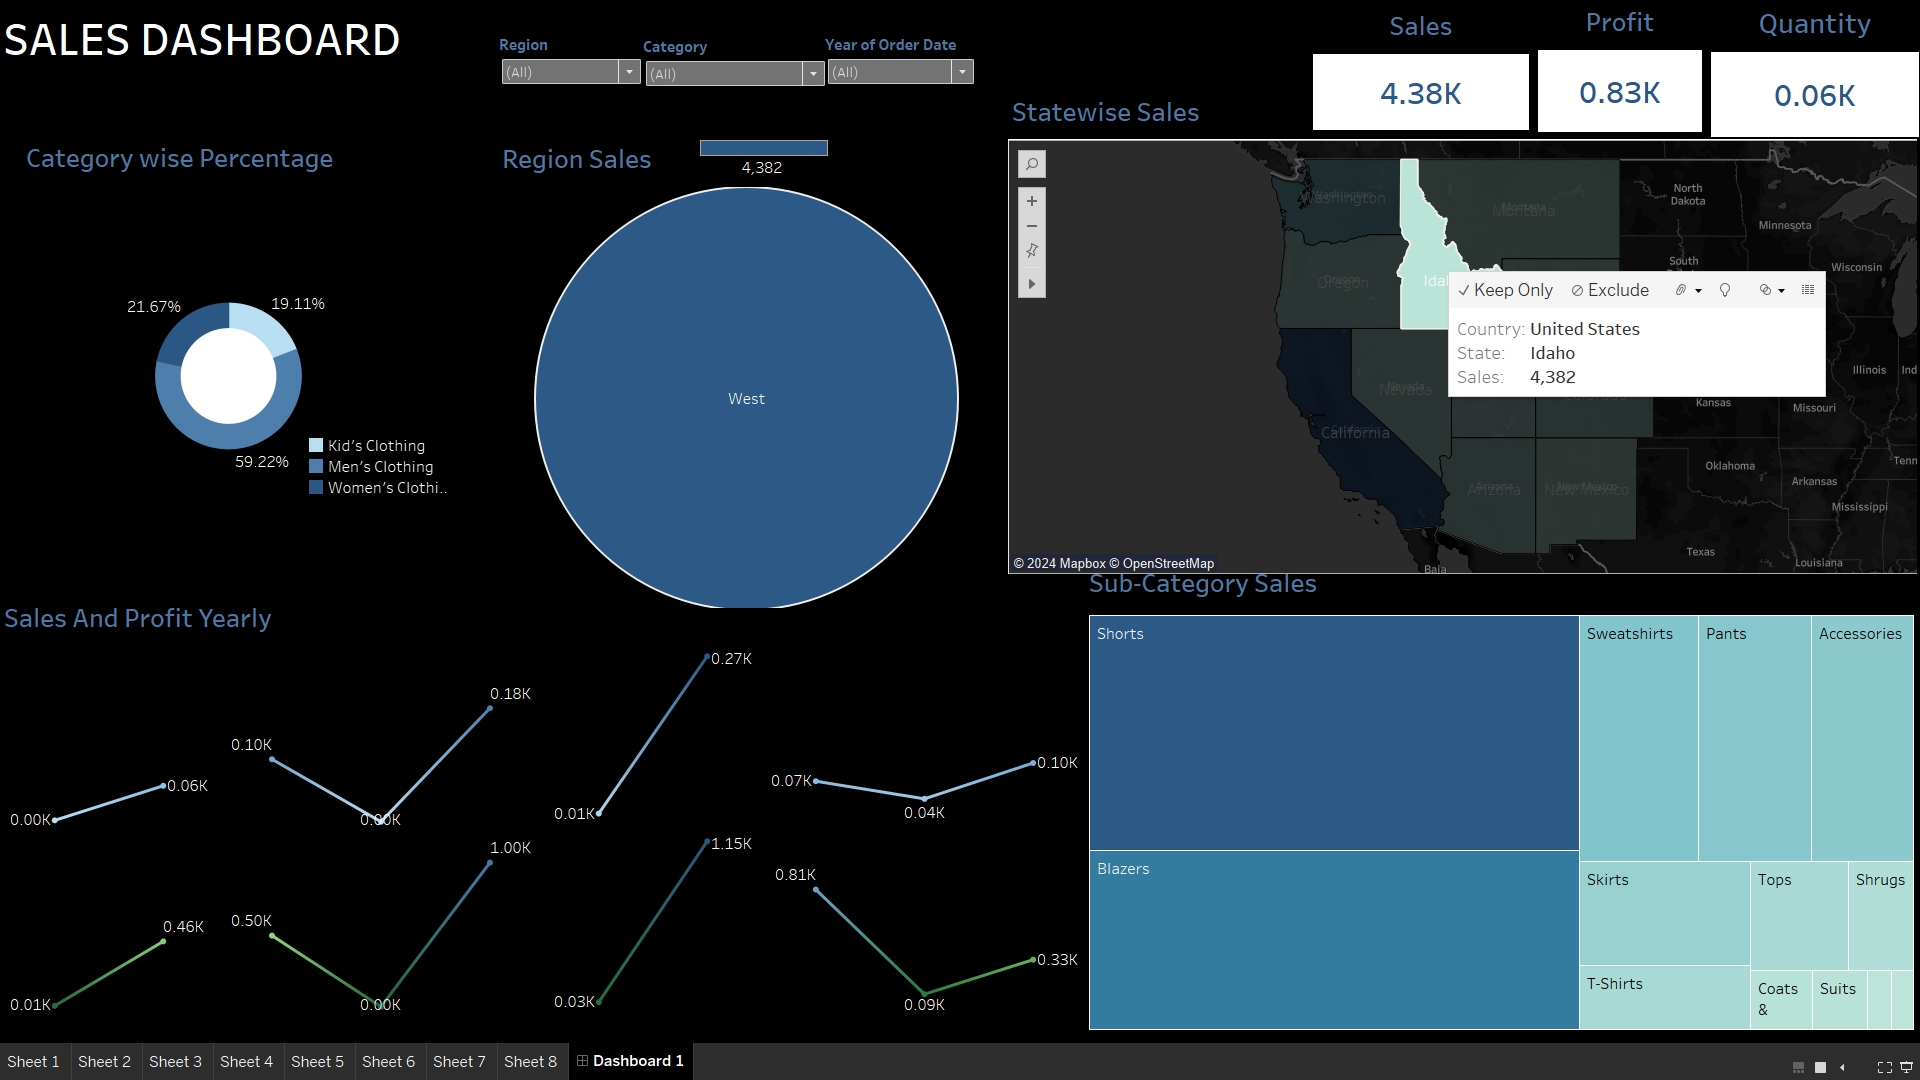

This screenshot's page, from the dashboard's own definition file:
{"tool":"tableau","page":{"name":"Dashboard 1","canvas":[1000,1000],"units":"permille","ordinal":0},"visuals":[{"type":"blank","box":[0,0,1000,1000]},{"type":"worksheet","title":"Sheet 3","mark":"Automatic","box":[801.2,0,85.3,126.1]},{"type":"worksheet","title":"Sheet 4","mark":"Automatic","box":[891.1,0,108.2,131.6]},{"type":"worksheet","title":"Sheet 2","mark":"Automatic","box":[683.9,3.7,112.7,120.7]},{"type":"text","box":[0,5.9,245,59.9]},{"type":"filter","title":"Sheet 3","param":"[federated.02s150b0oq98tg15a1gx214efzrz].[none:Region:nk]","box":[260.1,32.9,75.4,54.1]},{"type":"filter","title":"Sheet 8","param":"[federated.02s150b0oq98tg15a1gx214efzrz].[yr:Order Date:ok]","box":[429.6,32.9,78.9,50.5]},{"type":"filter","title":"Sheet 2","param":"[federated.02s150b0oq98tg15a1gx214efzrz].[none:Category:nk]","box":[334.9,34.1,96.6,51.7]},{"type":"worksheet","title":"Sheet 6","mark":"Automatic","box":[524.8,85.9,473.7,464.4]},{"type":"legend","title":"Sheet 1","param":"[federated.02s150b0oq98tg15a1gx214efzrz].[sum:Sales:qk]","box":[362.7,109.3,70.6,70.5]},{"type":"worksheet","title":"Sheet 7","mark":"Pie","rows":["Calculation_604326818627776520","Calculation_604326818627797002"],"box":[11.5,130.4,214.8,412.5]},{"type":"worksheet","title":"Sheet 1","mark":"Circle","box":[259.5,131.6,258.3,451.2]},{"type":"legend","title":"Sheet 7","param":"[federated.02s150b0oq98tg15a1gx214efzrz].[none:Category:nk]","box":[159.3,396,77.9,99.9]},{"type":"worksheet","title":"Sheet 5","mark":"Automatic","box":[564.9,538.2,433.3,453.6]},{"type":"worksheet","title":"Sheet 8","mark":"Automatic","rows":["Profit","Sales"],"cols":["Order Date","Order Date"],"box":[0,571.1,566.1,403.1]}]}

Visuals, with their boxes on the dashboard's canvas, which has no fixed pixel size, in thousandths of its width and height (x1, y1, x2, y2). These are canvas units, not pixel positions in the 1920x1080 screenshot, which may show the page scaled, cropped or inside an application window:
blank: detection(0, 0, 1000, 1000)
"Sheet 3" worksheet: detection(801, 0, 886, 126)
"Sheet 4" worksheet: detection(891, 0, 999, 132)
"Sheet 2" worksheet: detection(684, 4, 797, 124)
text: detection(0, 6, 245, 66)
"Sheet 3" filter: detection(260, 33, 336, 87)
"Sheet 8" filter: detection(430, 33, 508, 83)
"Sheet 2" filter: detection(335, 34, 432, 86)
"Sheet 6" worksheet: detection(525, 86, 998, 550)
"Sheet 1" legend: detection(363, 109, 433, 180)
"Sheet 7" worksheet (Pie marks): detection(12, 130, 226, 543)
"Sheet 1" worksheet (Circle marks): detection(260, 132, 518, 583)
"Sheet 7" legend: detection(159, 396, 237, 496)
"Sheet 5" worksheet: detection(565, 538, 998, 992)
"Sheet 8" worksheet: detection(0, 571, 566, 974)
